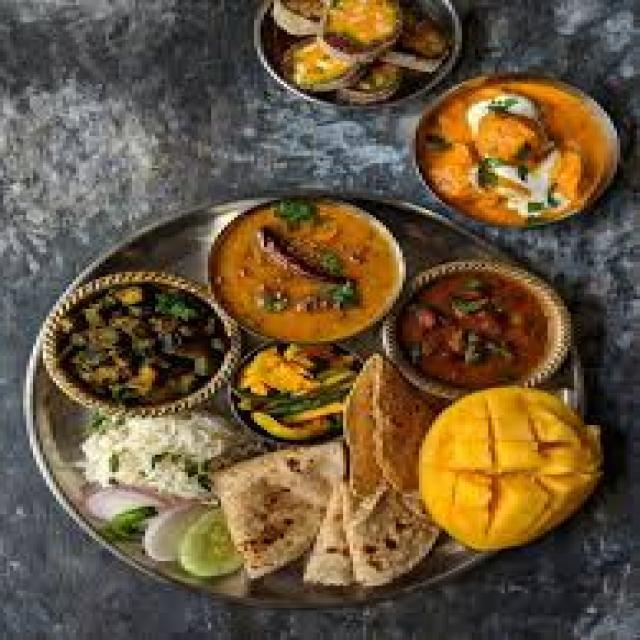dal: (198, 191, 411, 349), (41, 408, 232, 505)
rice: (48, 410, 236, 500)
roti: (200, 447, 356, 566)
sweet: (403, 75, 613, 232)
veg-fry: (391, 248, 571, 394)
